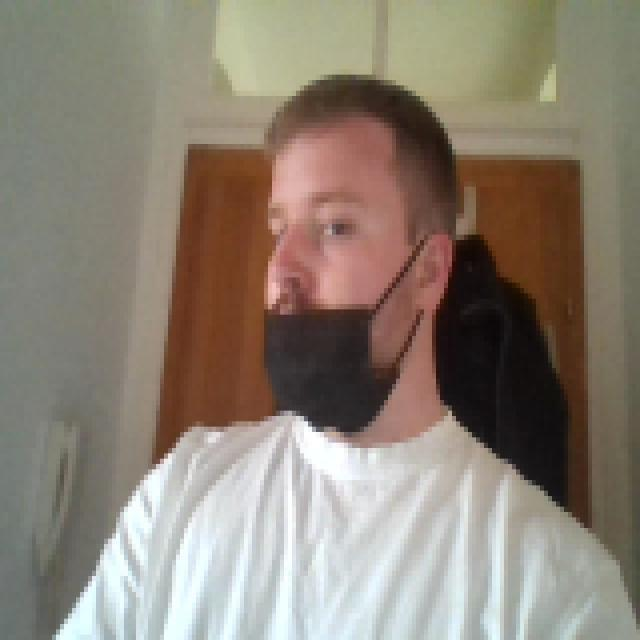hairnet: (248, 224, 464, 437)
